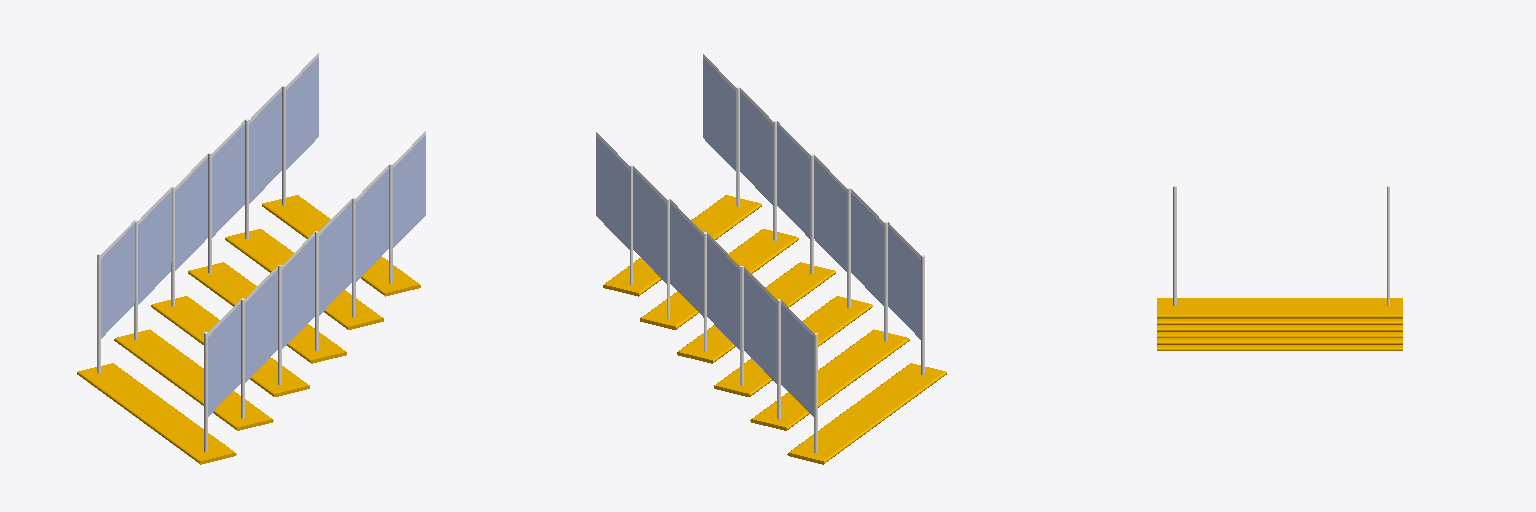
The model's file is stairs.obj.
3 views of the same model, side by side, from view 1: azimuth 30°, elevation 25°; view 2: azimuth 150°, elevation 25°; view 3: azimuth 270°, elevation 25° (orthographic).
Parts seen in each view (by area): view 1: Mesh3 tread1 Stairs_Floating1 Model, Mesh6 tread1_copy_001 Stairs_Floating1 Model, Mesh1 vertical1a Stairs_Floating1 Model, Mesh5 vertical1_copy_001 Stairs_Floating1 Model, Mesh13 vertical1a_copy_004 Stairs_Floating1 Model, Mesh16 vertical1_copy_005 Stairs_Floating1 Model, Mesh9 vertical1_copy_002 Stairs_Floating1 Model, Mesh15 vertical1_copy_004 Stairs_Floating1 Model, Mesh14 vertical1a_copy_005 Stairs_Floating1 Model, Mesh2 vertical1 Stairs_Floating1 Model, Mesh8 vertical1a_copy_003 Stairs_Floating1 Model, Mesh4 vertical1a_copy_001 Stairs_Floating1 Model (+6 smaller); view 2: Mesh3 tread1 Stairs_Floating1 Model, Mesh6 tread1_copy_001 Stairs_Floating1 Model, Mesh9 vertical1_copy_002 Stairs_Floating1 Model, Mesh5 vertical1_copy_001 Stairs_Floating1 Model, Mesh4 vertical1a_copy_001 Stairs_Floating1 Model, Mesh7 vertical1a_copy_002 Stairs_Floating1 Model, Mesh15 vertical1_copy_004 Stairs_Floating1 Model, Mesh16 vertical1_copy_005 Stairs_Floating1 Model, Mesh2 vertical1 Stairs_Floating1 Model, Mesh1 vertical1a Stairs_Floating1 Model, Mesh10 vertical1_copy_003 Stairs_Floating1 Model, Mesh14 vertical1a_copy_005 Stairs_Floating1 Model (+6 smaller); view 3: Mesh18 tread1_copy_005 Stairs_Floating1 Model, Mesh6 tread1_copy_001 Stairs_Floating1 Model, Mesh12 tread1_copy_003 Stairs_Floating1 Model, Mesh3 tread1 Stairs_Floating1 Model, Mesh11 tread1_copy_002 Stairs_Floating1 Model, Mesh17 tread1_copy_004 Stairs_Floating1 Model.
Boxes of the visible parts, x1,y1,x2,y2 form: Mesh3 tread1 Stairs_Floating1 Model: [77, 363, 236, 464]; Mesh6 tread1_copy_001 Stairs_Floating1 Model: [114, 329, 273, 430]; Mesh1 vertical1a Stairs_Floating1 Model: [97, 220, 134, 373]; Mesh5 vertical1_copy_001 Stairs_Floating1 Model: [241, 266, 277, 418]; Mesh13 vertical1a_copy_004 Stairs_Floating1 Model: [245, 87, 281, 238]; Mesh16 vertical1_copy_005 Stairs_Floating1 Model: [389, 131, 425, 283]; Mesh9 vertical1_copy_002 Stairs_Floating1 Model: [278, 232, 314, 384]; Mesh15 vertical1_copy_004 Stairs_Floating1 Model: [352, 165, 388, 317]; Mesh14 vertical1a_copy_005 Stairs_Floating1 Model: [282, 53, 318, 205]; Mesh2 vertical1 Stairs_Floating1 Model: [204, 300, 240, 451]; Mesh8 vertical1a_copy_003 Stairs_Floating1 Model: [208, 120, 244, 272]; Mesh4 vertical1a_copy_001 Stairs_Floating1 Model: [134, 187, 171, 339]; Mesh3 tread1 Stairs_Floating1 Model: [787, 363, 946, 464]; Mesh6 tread1_copy_001 Stairs_Floating1 Model: [750, 329, 909, 430]; Mesh9 vertical1_copy_002 Stairs_Floating1 Model: [814, 155, 850, 307]; Mesh5 vertical1_copy_001 Stairs_Floating1 Model: [851, 189, 887, 341]; Mesh4 vertical1a_copy_001 Stairs_Floating1 Model: [744, 267, 780, 419]; Mesh7 vertical1a_copy_002 Stairs_Floating1 Model: [707, 233, 743, 385]; Mesh15 vertical1_copy_004 Stairs_Floating1 Model: [740, 88, 776, 240]; Mesh16 vertical1_copy_005 Stairs_Floating1 Model: [703, 54, 739, 206]; Mesh2 vertical1 Stairs_Floating1 Model: [888, 222, 924, 374]; Mesh1 vertical1a Stairs_Floating1 Model: [781, 300, 817, 452]; Mesh10 vertical1_copy_003 Stairs_Floating1 Model: [777, 121, 813, 273]; Mesh14 vertical1a_copy_005 Stairs_Floating1 Model: [596, 132, 632, 284]; Mesh18 tread1_copy_005 Stairs_Floating1 Model: [1157, 298, 1402, 318]; Mesh6 tread1_copy_001 Stairs_Floating1 Model: [1157, 338, 1402, 344]; Mesh12 tread1_copy_003 Stairs_Floating1 Model: [1157, 325, 1402, 331]; Mesh3 tread1 Stairs_Floating1 Model: [1157, 345, 1402, 350]; Mesh11 tread1_copy_002 Stairs_Floating1 Model: [1157, 332, 1402, 337]; Mesh17 tread1_copy_004 Stairs_Floating1 Model: [1157, 319, 1402, 324].
Bounding box in the file's own units: 1.78 × 1.96 × 1.61.